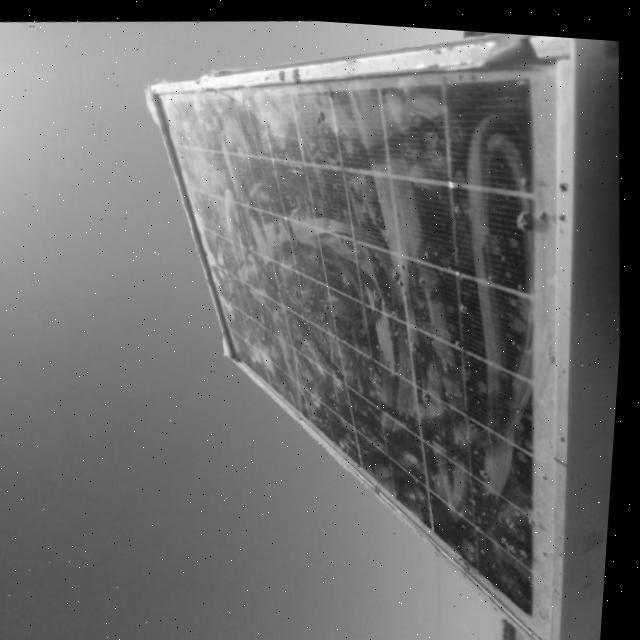Surface Contaminant: (159, 79, 542, 600)
